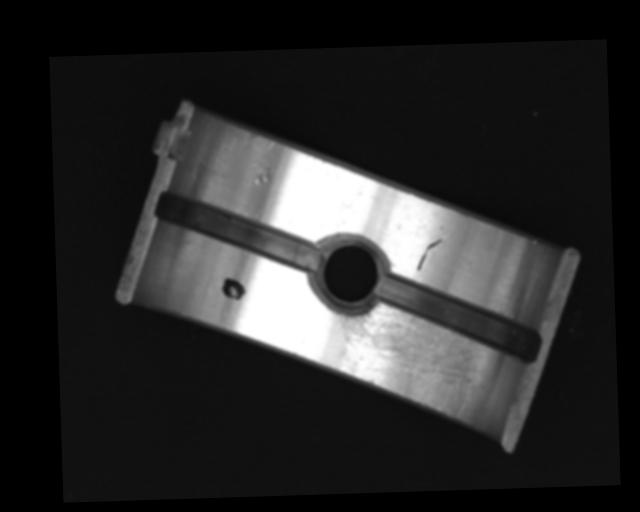blot: (221, 277, 247, 301)
bruise: (249, 161, 275, 187)
gap: (373, 268, 541, 367), (155, 189, 318, 276)
hole: (311, 236, 388, 314)
nick: (415, 237, 444, 273)
scratch: (334, 295, 486, 423)
